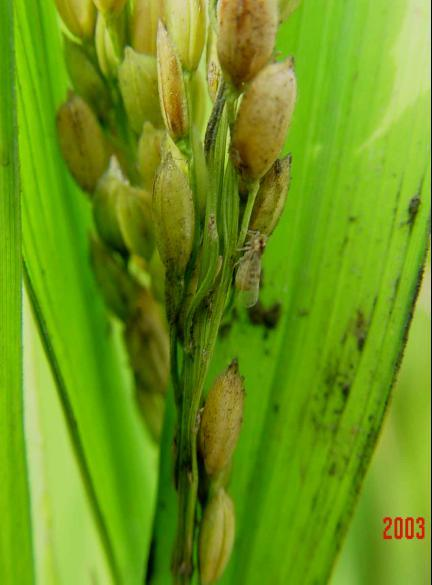Delphacidae: (232, 229, 266, 309)
